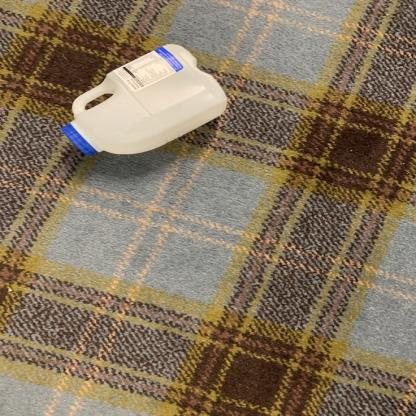trash: (58, 43, 233, 160)
